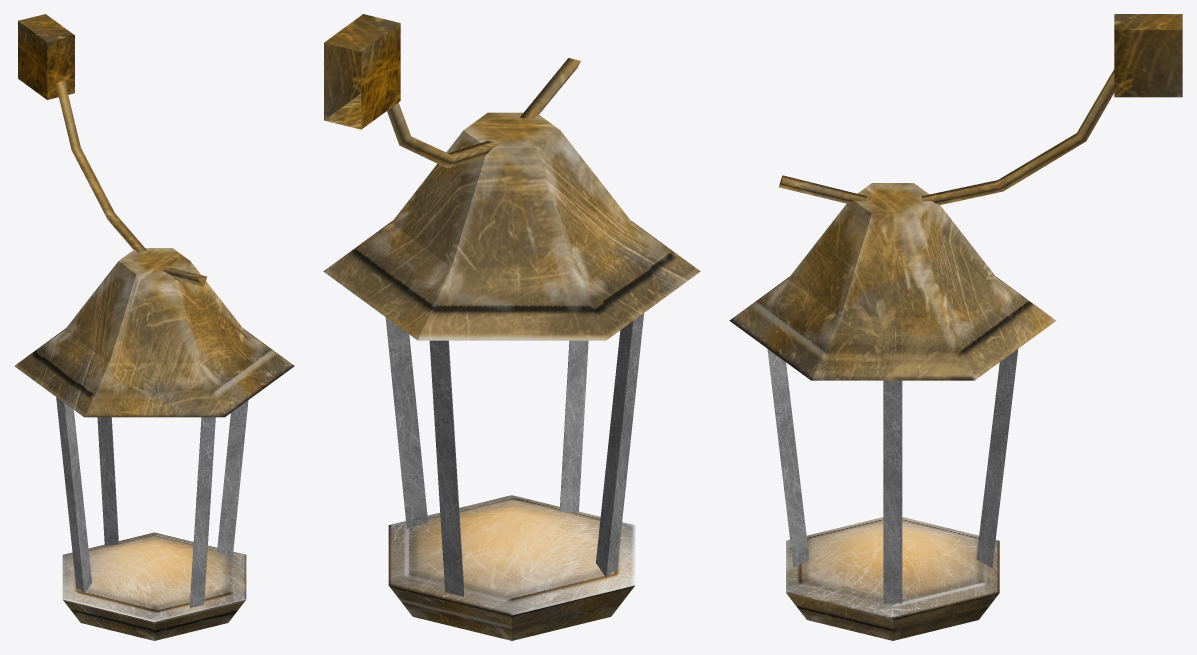
The model's file is lantern.FBX.
The picture shows the model from 3 angles, left to right: view 1: azimuth 30°, elevation 25°; view 2: azimuth 150°, elevation 25°; view 3: azimuth 270°, elevation 25°; orthographic projection. The views are drawn at different scales.
Visible parts, largest first — view 1: lantern; view 2: lantern; view 3: lantern.
Part boxes in pixels (x1=…): lantern: x1=14, y1=14, x2=294, y2=640; lantern: x1=323, y1=14, x2=700, y2=640; lantern: x1=729, y1=14, x2=1182, y2=640.
Size of the model in its own units: 19.34 by 43.55 by 30.95.
